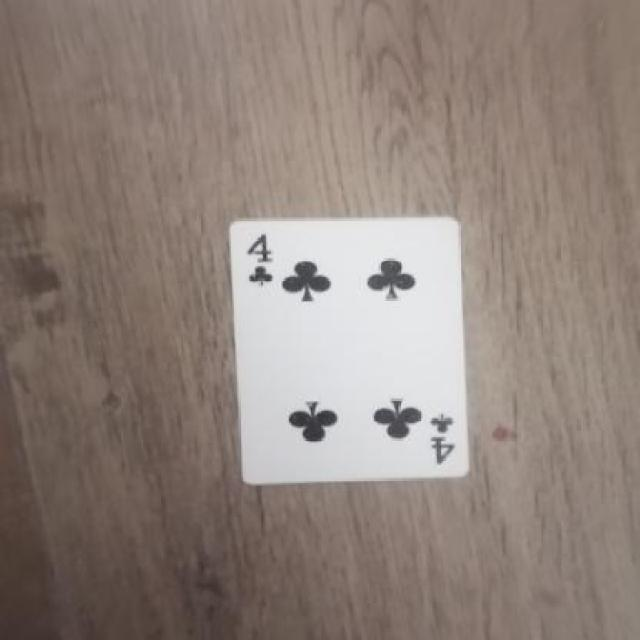4C: (242, 229, 286, 306), (422, 405, 471, 473)
